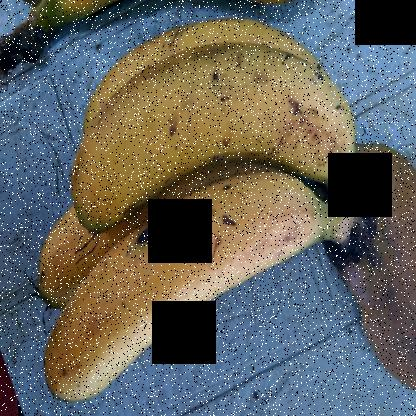ripe: (48, 178, 323, 416), (82, 60, 371, 236)
